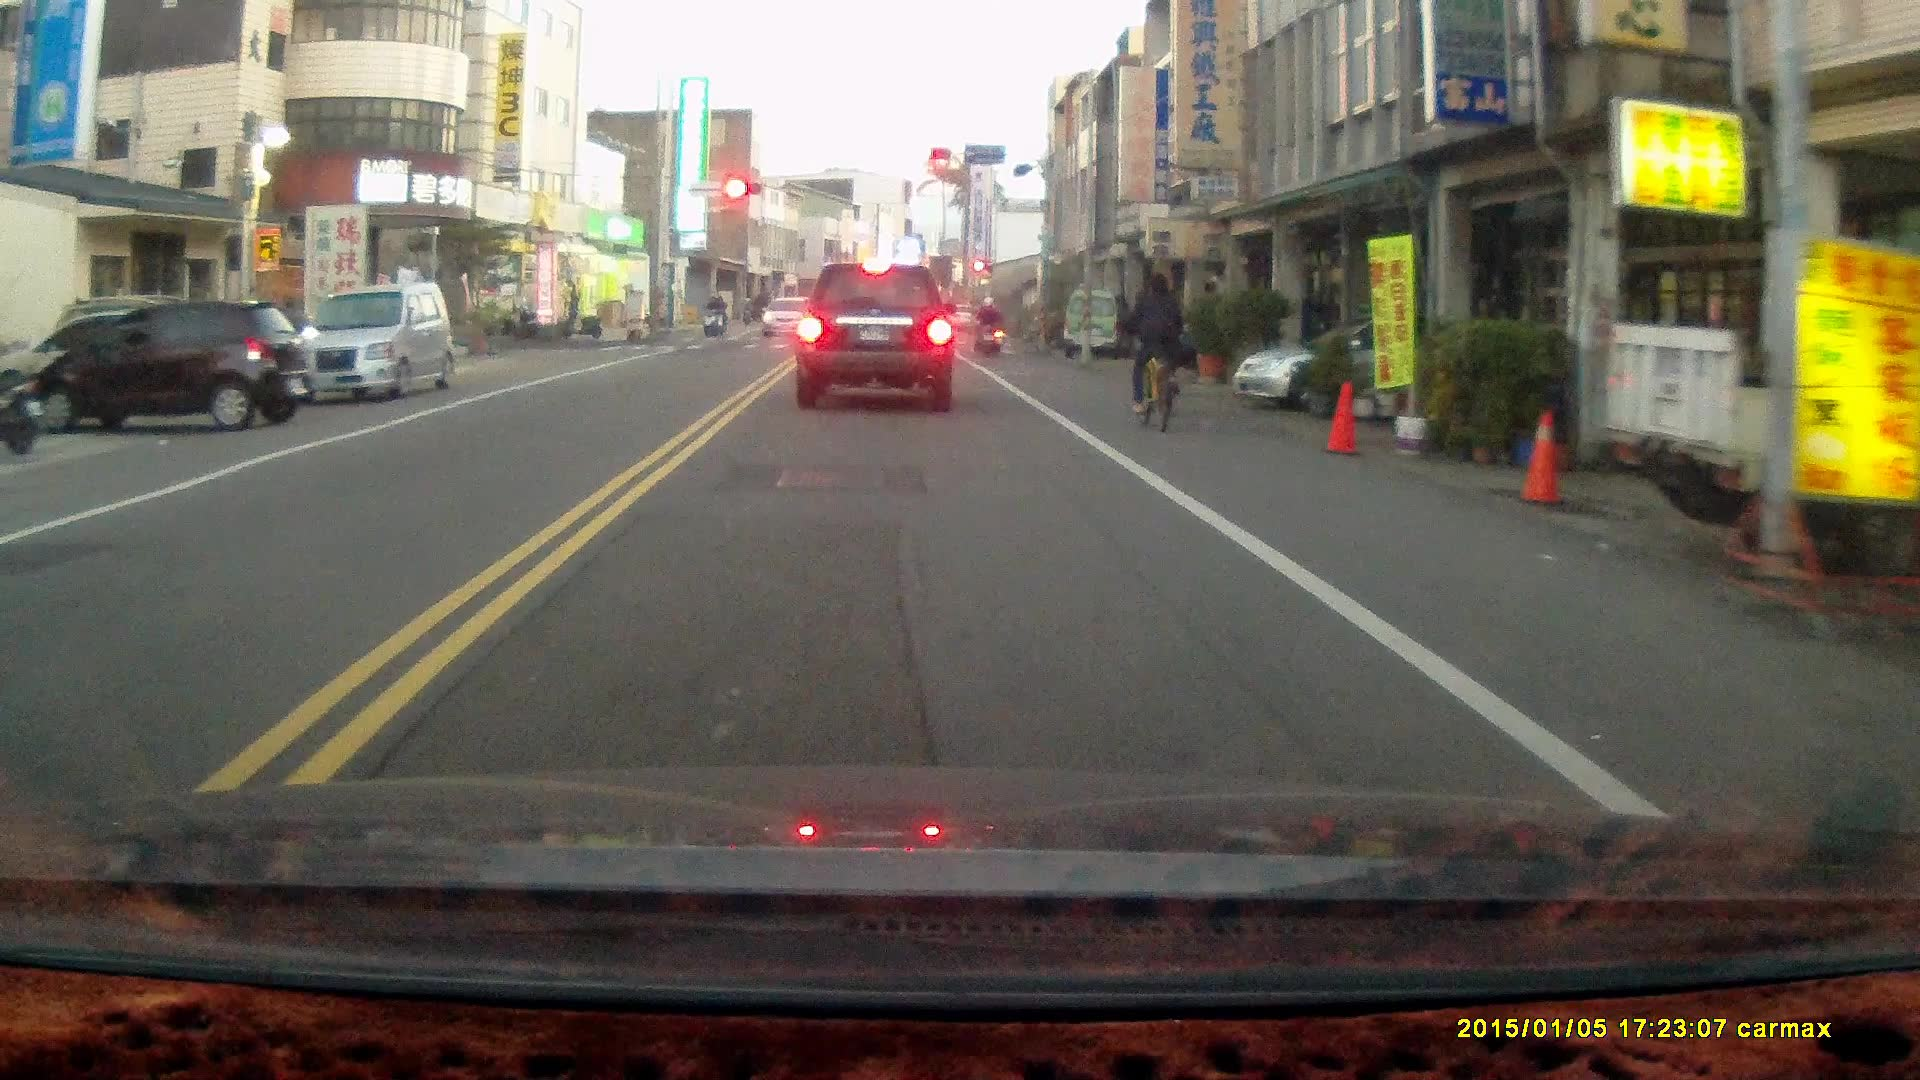rider: (1122, 268, 1186, 432), (969, 293, 1001, 358), (698, 293, 722, 341)
vehicle: (17, 297, 305, 437), (1228, 319, 1512, 422), (792, 264, 955, 415), (286, 283, 456, 406), (1061, 292, 1127, 363)
